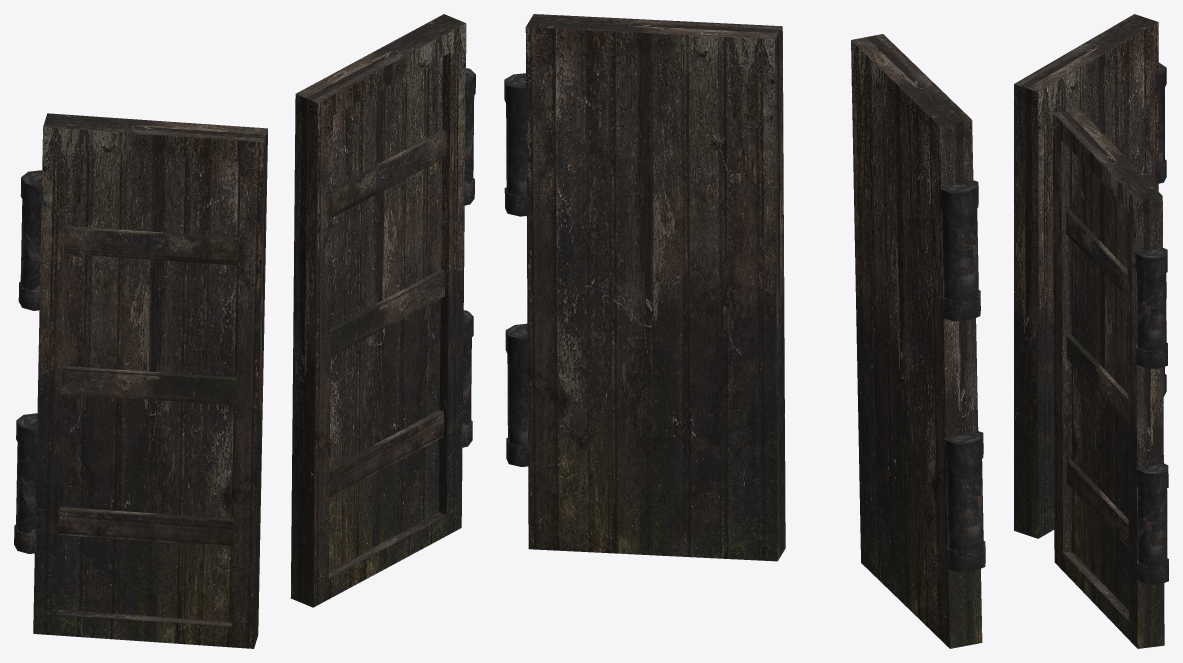
The model's file is Window_Barriers_03.fbx.
3 renders of one model, left to right at view 1: azimuth 30°, elevation 25°; view 2: azimuth 150°, elevation 25°; view 3: azimuth 270°, elevation 25°, orthographic. The views are drawn at different scales.
Visible parts, largest first — view 1: Window_Barriers_03; view 2: Window_Barriers_03; view 3: Window_Barriers_03.
Boxes of the visible parts, <box> form: Window_Barriers_03: <box>14,14,475,648</box>; Window_Barriers_03: <box>504,14,985,648</box>; Window_Barriers_03: <box>1014,14,1168,648</box>.
Bounding box in the file's own units: 104 × 110 × 33.81.
